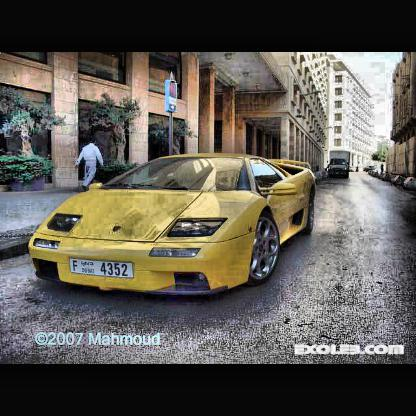Lamborghini Diablo Coupe 2001: (26, 151, 320, 307)
